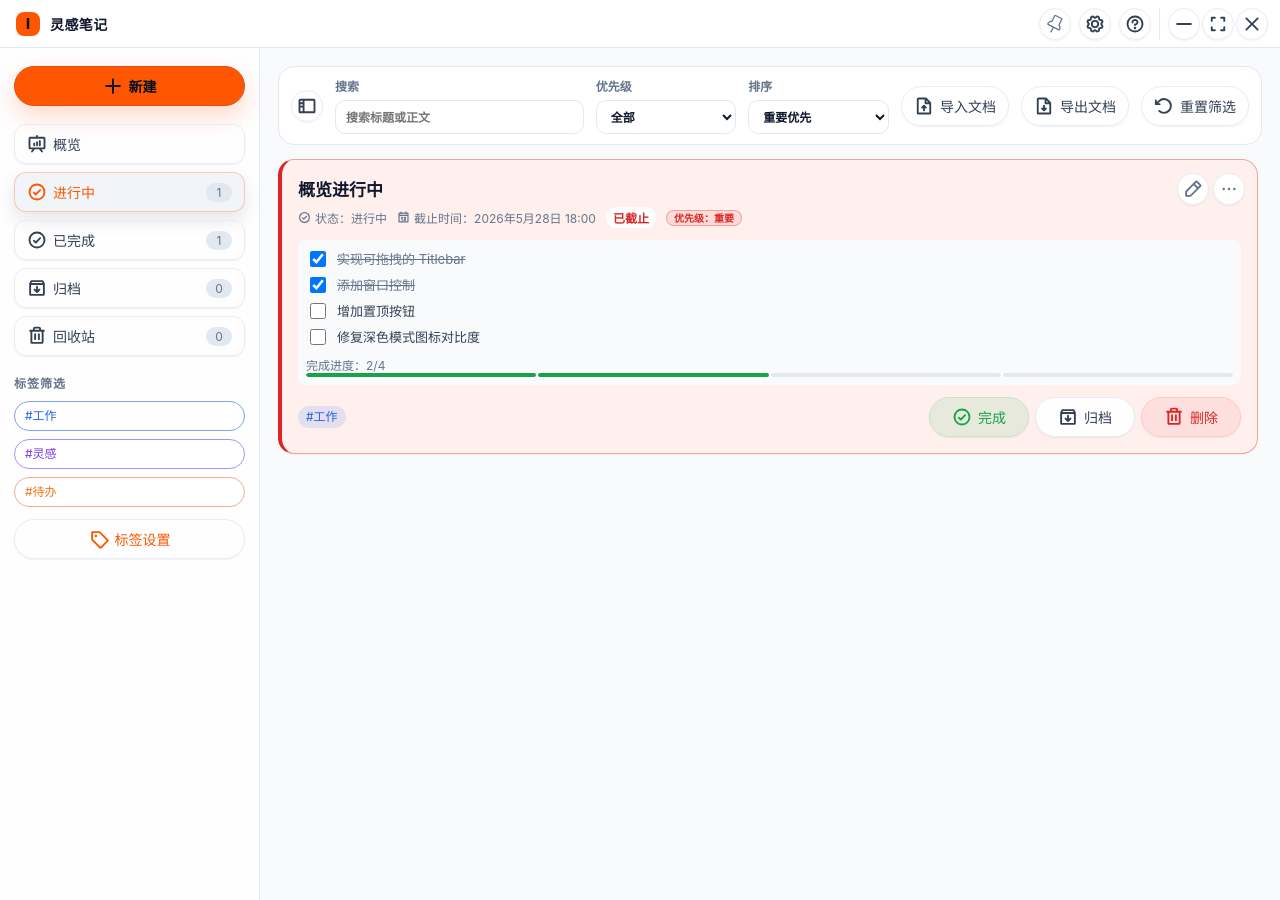
Test: App sidebar › 侧栏显示概览入口并展示统计面板
Click the button "概览" at (130, 144), box left=14, top=124, right=245, bottom=164
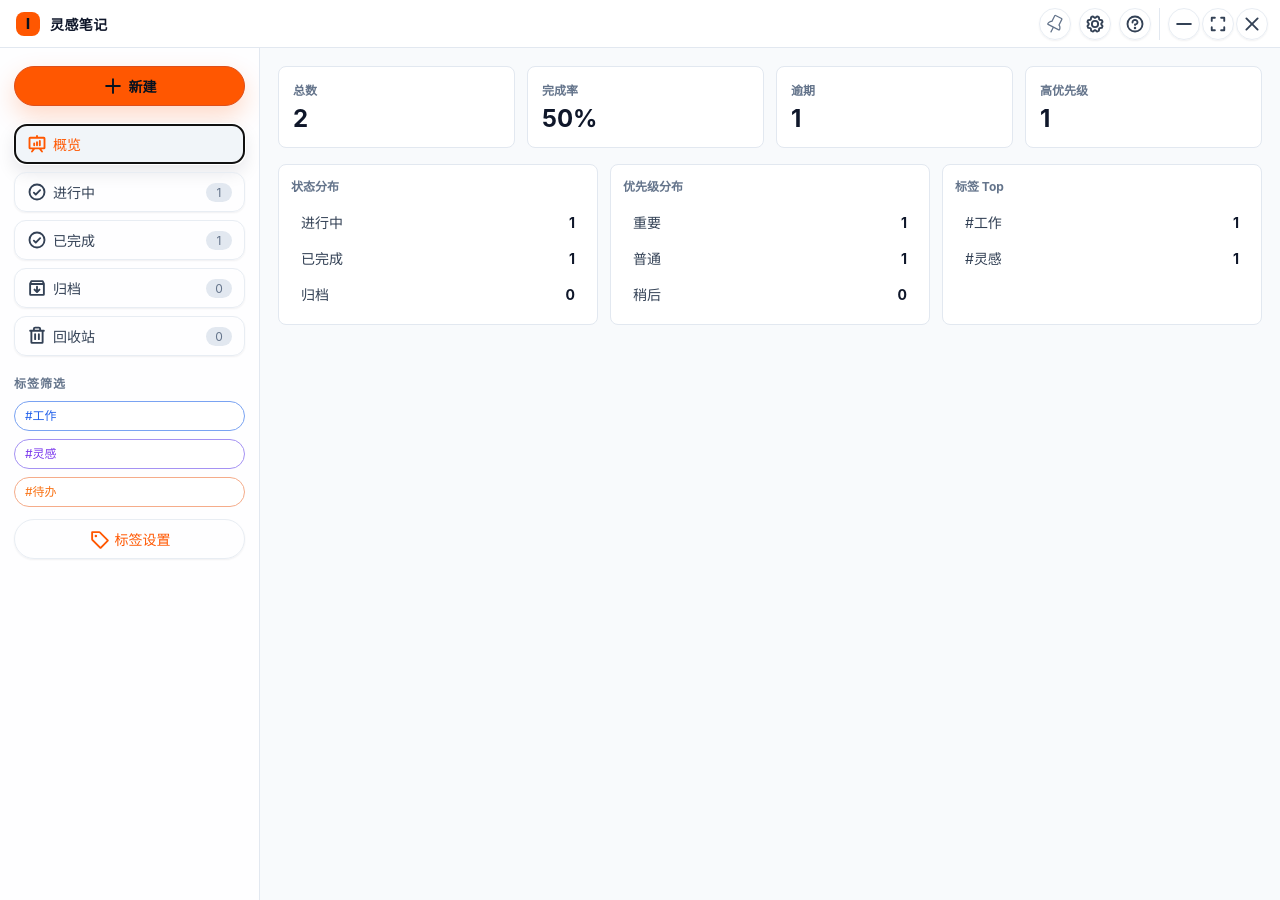
Expected: the element named "数据概览" is shown, left=278, top=66, right=1262, bottom=325
Expected: the text "总数" is shown, left=293, top=83, right=317, bottom=98
Expected: the text "逾期" is shown, left=791, top=83, right=815, bottom=98
